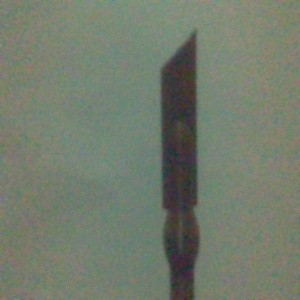cutter: (160, 28, 200, 300)
